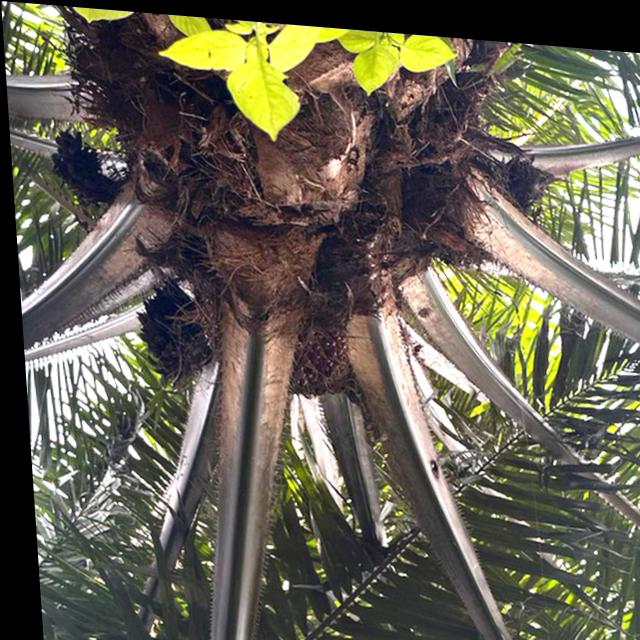ripe: (279, 303, 358, 399)
